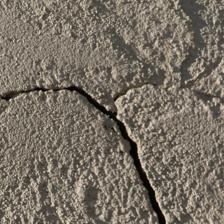Crack: (106, 111, 165, 223), (117, 54, 223, 102), (3, 83, 114, 117)
